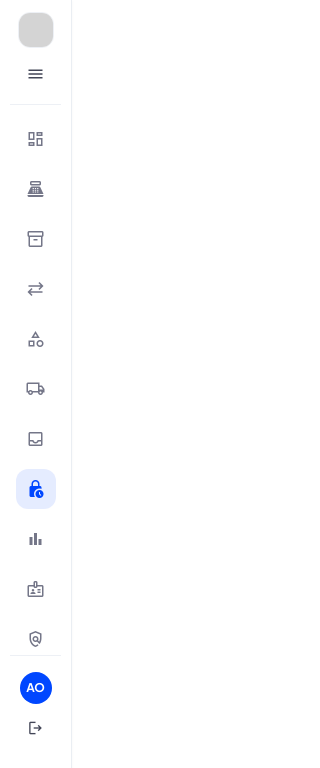
it: Sidebar Navigation Grouping › renders Daily Closing multi-page group flyout and highlights active child
Click to open flyout
Click the button named "daily closing" at (36, 489), box [16, 469, 56, 509]
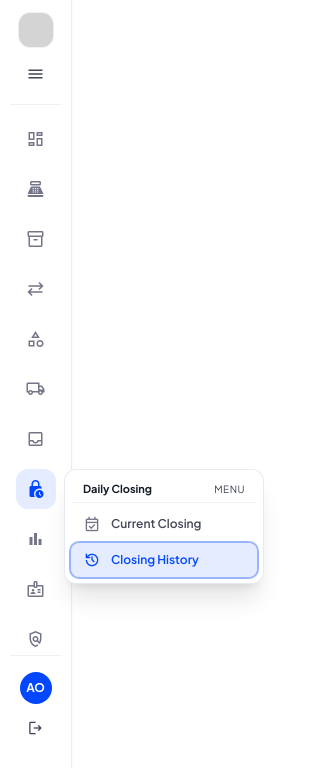
Expected: the menu named "daily closing sub-menu" is shown, [64, 469, 264, 584]
Expected: the menu item "Current Closing" is shown, [83, 513, 202, 535]
Expected: the menu item "Closing History" is shown, [71, 543, 257, 577]
